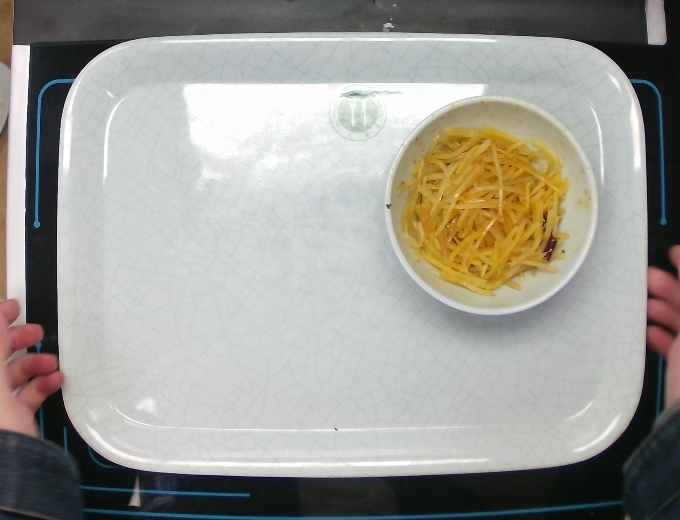JYsf-Fan_Wan: (383, 95, 600, 319)
